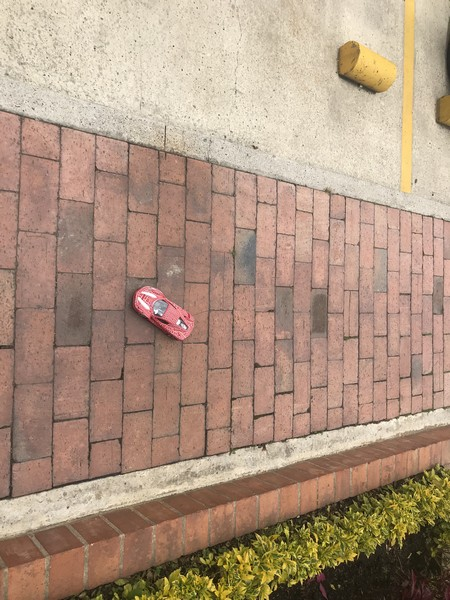RC: (129, 283, 197, 345)
